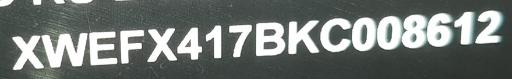letter: (40, 32, 88, 69), (8, 34, 46, 71), (287, 18, 321, 57), (144, 27, 178, 64), (254, 20, 286, 59), (86, 29, 118, 68), (319, 17, 351, 54), (174, 25, 204, 64), (474, 10, 504, 45), (426, 11, 452, 50), (401, 11, 427, 50), (226, 22, 252, 61), (118, 28, 144, 67), (376, 15, 402, 52), (351, 15, 377, 52), (202, 22, 224, 61), (454, 10, 474, 47)
